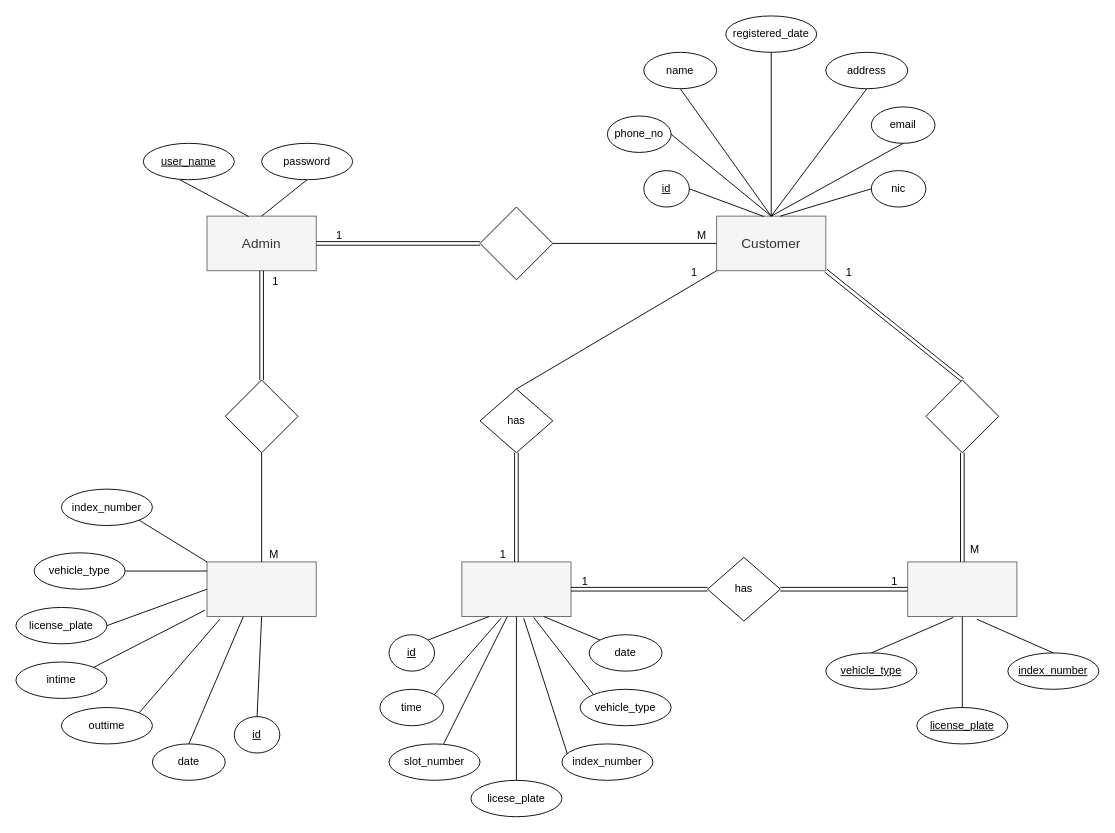
This 1115x833 diagram has some shape labels left out. Here are the shapes that lost their labels. From the top down, the box of each, then its label:
(479, 206, 553, 280): manage
(224, 379, 298, 453): take
(925, 379, 999, 453): register
(206, 561, 316, 617): Daily_Report
(461, 561, 571, 617): Parked_Vehicle
(907, 561, 1017, 617): Vehicle_Plate
